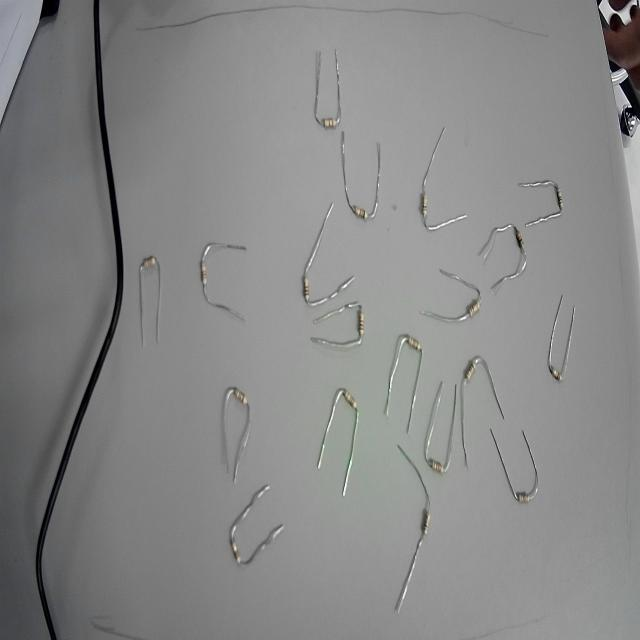resistor: (326, 374, 366, 434), (340, 194, 382, 246), (454, 274, 486, 340), (304, 107, 363, 142), (196, 229, 217, 324), (218, 367, 254, 421), (421, 430, 453, 490), (350, 288, 377, 358), (224, 521, 254, 580), (452, 340, 484, 395), (543, 160, 568, 230), (506, 216, 534, 278), (416, 172, 436, 249), (294, 257, 318, 320), (130, 247, 167, 284), (544, 348, 570, 398), (420, 486, 437, 561), (397, 322, 424, 361), (506, 482, 536, 514)
